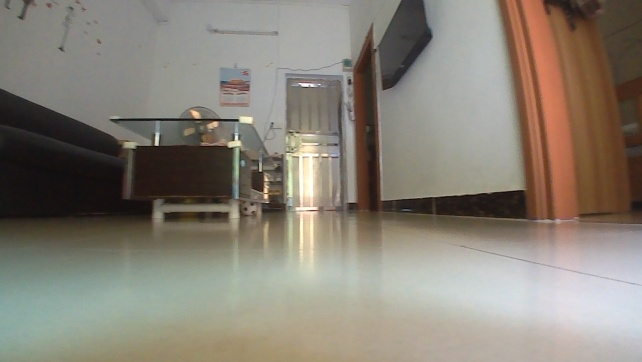door_anno: (285, 78, 348, 213)
sofa1: (0, 86, 156, 219)
tea_table: (105, 113, 280, 221)
wire: (276, 65, 346, 73)
